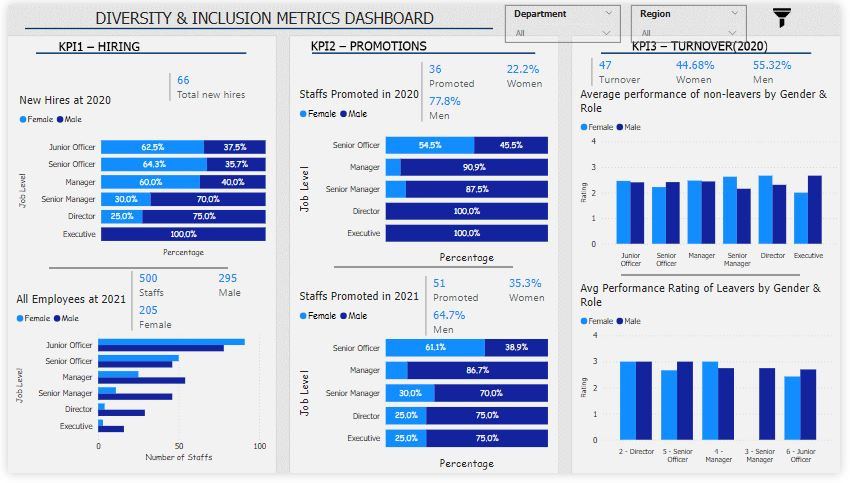

The dashboard page shown, as its layout file describes it:
{"tool":"powerbi","page":{"name":"Page 1","canvas":[1280,720],"ordinal":1},"visuals":[{"type":"textbox","box":[44,0,700,44],"z":0},{"type":"shape","box":[26,26,720,20],"z":1000},{"type":"hundredPercentStackedBarChart","title":"New Hires at 2020","fields":{"Y":["CountNonNull(Pharma Group AG.Job Level after FY20 promotions)"],"Series":["Pharma Group AG.Gender"],"Category":["Backing 2.Job level text"]},"box":[12.3,135.4,389.2,256.9],"z":2000},{"type":"multiRowCard","fields":{"Values":["Measures Table.Total new hires"]},"box":[243.1,100,150.8,52.3],"z":3000},{"type":"clusteredBarChart","title":"All Employees at 2021","fields":{"Category":["Backing 2.Job level text"],"Y":["CountNonNull(Pharma Group AG.Job Level after FY21 promotions)"],"Series":["Pharma Group AG.Gender"]},"box":[7.7,441.5,393.8,266.2],"z":4000},{"type":"hundredPercentStackedBarChart","title":"Staffs Promoted in 2020","fields":{"Category":["Backing 2.Job level text"],"Series":["Pharma Group AG.Gender"],"Y":["CountNonNull(Pharma Group AG.Promotion in FY20?)"]},"box":[443.6,126.1,392.6,277.8],"z":5000},{"type":"multiRowCard","fields":{"Values":["Measures Table.Promoted_in FY21","Measures Table.% women promoted 21","Measures Table.% men promoted 21"]},"box":[636.9,412.3,255.4,101.5],"z":6000},{"type":"multiRowCard","fields":{"Values":["Measures Table.Turnover","Measures Table.% turnover that are women","Measures Table.% turnover that are men"]},"box":[892.3,76.9,376.9,66.2],"z":7000},{"type":"clusteredColumnChart","title":"Average performance of non-leavers by Gender & Role","fields":{"Category":["Backing 2.Job level text"],"Y":["Avg(Pharma Group AG.FY20 Performance Rating)"],"Series":["Pharma Group AG.Gender"]},"box":[875.4,126.2,404.6,286.2],"z":8000},{"type":"clusteredColumnChart","title":"Avg Performance Rating of Leavers by Gender & Role","fields":{"Category":["Pharma Group AG.Job Level before FY20 promotions"],"Series":["Pharma Group AG.Gender"],"Y":["Avg(Pharma Group AG.FY20 Performance Rating)"]},"box":[875.4,424.6,400,289.2],"z":9000},{"type":"hundredPercentStackedBarChart","title":"Staffs Promoted in 2021","fields":{"Category":["Backing 2.Job level text"],"Series":["Pharma Group AG.Gender"],"Y":["CountNonNull(Pharma Group AG.Promotion in FY21?)"]},"box":[443.6,436.5,392.6,283.5],"z":10000},{"type":"multiRowCard","fields":{"Values":["Measures Table.Promoted_in FY20","Measures Table.% women promoted 20","Measures Table.% men promoted 20"]},"box":[630.7,83.6,260.8,103.5],"z":11000},{"type":"shape","box":[501.5,393.8,275.4,18.5],"z":12000},{"type":"shape","box":[63.1,395.4,275.4,18.5],"z":13000},{"type":"slicer","fields":{"Values":["Pharma Group AG.Department @01.07.2020"]},"box":[764.6,0,178.5,58.5],"z":14000},{"type":"slicer","fields":{"Values":["Pharma Group AG.Broad region group: nationality 1"]},"box":[958.5,0,178.5,58.5],"z":15000},{"type":"multiRowCard","fields":{"Values":["Measures Table.Total employees","Measures Table.Male staffs","Measures Table.Female staffs"]},"box":[184.6,404.6,266.2,115.4],"z":16000},{"type":"image","box":[1170.8,0,40,40],"z":17000},{"type":"shape","box":[943.1,406.2,275.4,18.5],"z":18000},{"type":"actionButton","box":[1241.5,681.5,38.5,38.5],"z":19000}]}

Visuals, with their boxes in screenshot pixels (x1, y1, x2, y2), scaled from the page's 1280x720 canvas onto the 850x483 screenshot:
textbox: <bbox>29, 0, 494, 30</bbox>
shape: <bbox>17, 17, 495, 31</bbox>
"New Hires at 2020" hundredPercentStackedBarChart: <bbox>8, 91, 267, 263</bbox>
multiRowCard - Measures Table.Total new hires: <bbox>161, 67, 262, 102</bbox>
"All Employees at 2021" clusteredBarChart: <bbox>5, 296, 267, 475</bbox>
"Staffs Promoted in 2020" hundredPercentStackedBarChart: <bbox>295, 85, 555, 271</bbox>
multiRowCard - Measures Table.Promoted_in FY21 x Measures Table.% women promoted 21: <bbox>423, 277, 593, 345</bbox>
multiRowCard - Measures Table.Turnover x Measures Table.% turnover that are women: <bbox>593, 52, 843, 96</bbox>
"Average performance of non-leavers by Gender & Role" clusteredColumnChart: <bbox>581, 85, 849, 277</bbox>
"Avg Performance Rating of Leavers by Gender & Role" clusteredColumnChart: <bbox>581, 285, 847, 479</bbox>
"Staffs Promoted in 2021" hundredPercentStackedBarChart: <bbox>295, 293, 555, 482</bbox>
multiRowCard - Measures Table.Promoted_in FY20 x Measures Table.% women promoted 20: <bbox>419, 56, 592, 126</bbox>
shape: <bbox>333, 264, 516, 277</bbox>
shape: <bbox>42, 265, 225, 278</bbox>
slicer - Pharma Group AG.Department @01.07.2020: <bbox>508, 0, 626, 39</bbox>
slicer - Pharma Group AG.Broad region group: nationality 1: <bbox>637, 0, 755, 39</bbox>
multiRowCard - Measures Table.Total employees x Measures Table.Male staffs: <bbox>123, 271, 299, 349</bbox>
image: <bbox>777, 0, 804, 27</bbox>
shape: <bbox>626, 272, 809, 285</bbox>
actionButton: <bbox>824, 457, 849, 482</bbox>
